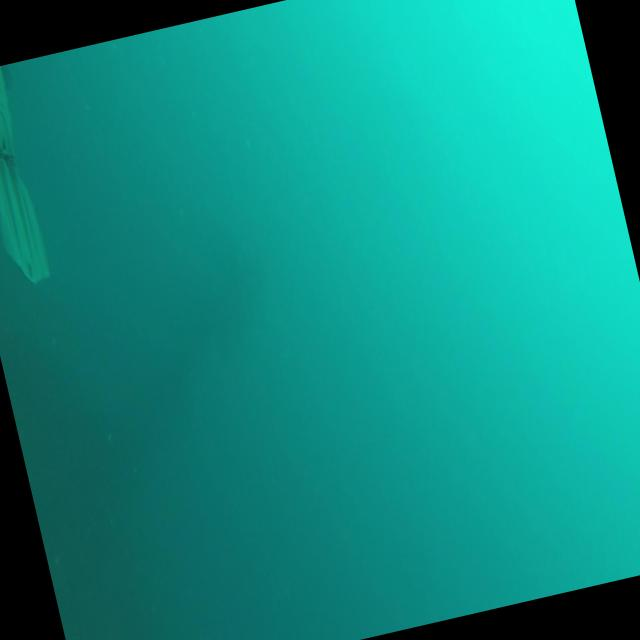human: (0, 63, 61, 302)
